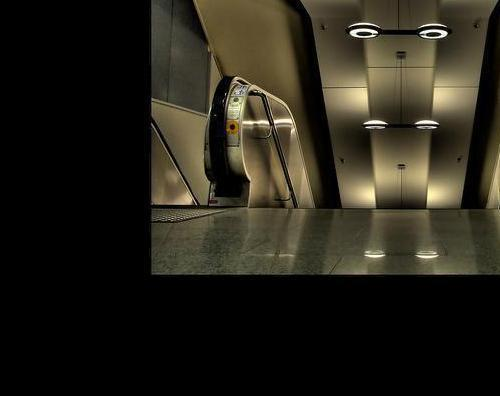Escaleras: (181, 68, 500, 219)
